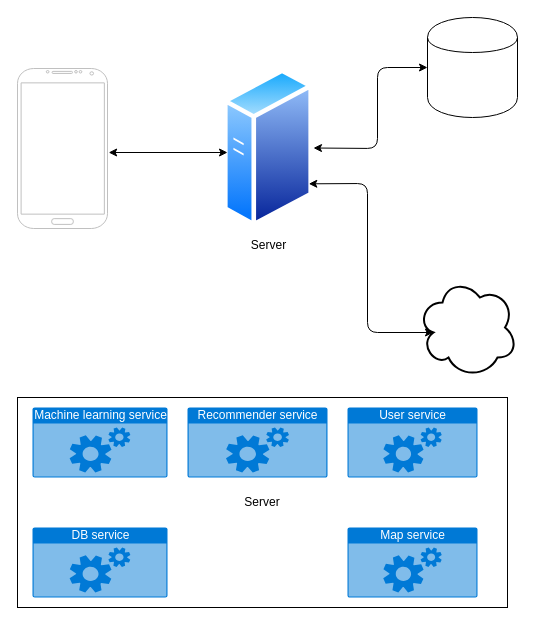
This 536x625 diagram has some shape labels left out. Here are the shapes that lost their labels. From the top down, the box of each, then its label:
(426, 16, 518, 118): PostgreSQL
(16, 68, 108, 228): Flutter
(416, 276, 518, 378): OSM Api
